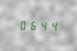four: (38, 20, 47, 31), (48, 20, 57, 31)
six: (28, 19, 37, 30)
zero: (18, 19, 27, 30)
